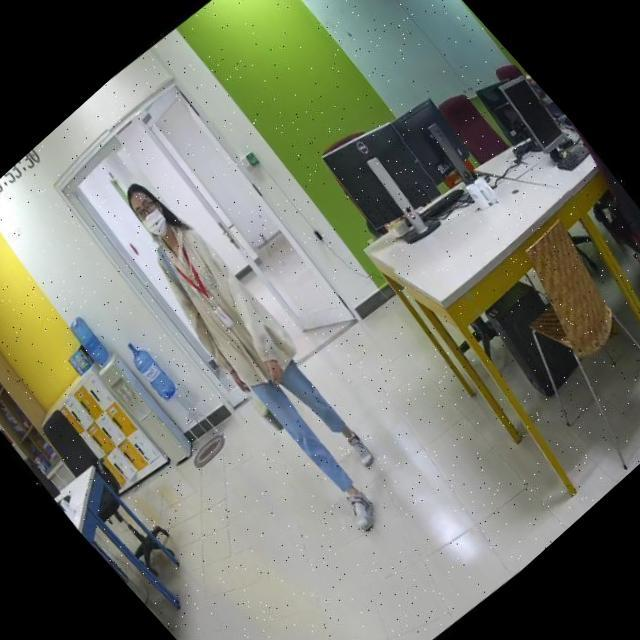person: (84, 165, 437, 542)
